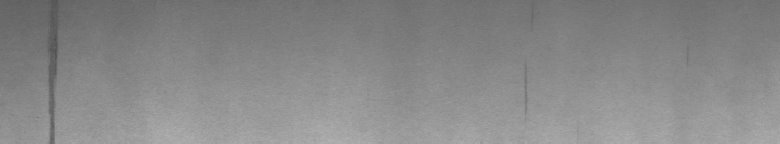hd: (44, 4, 61, 136)
